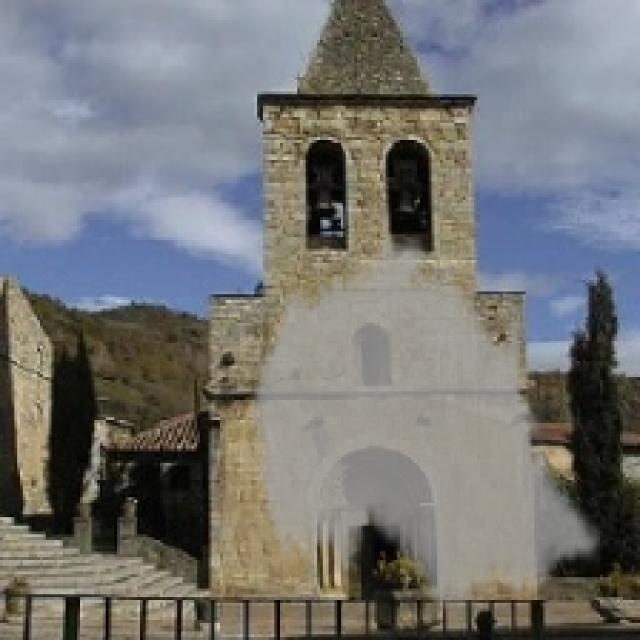Smoke: (246, 225, 603, 626)
